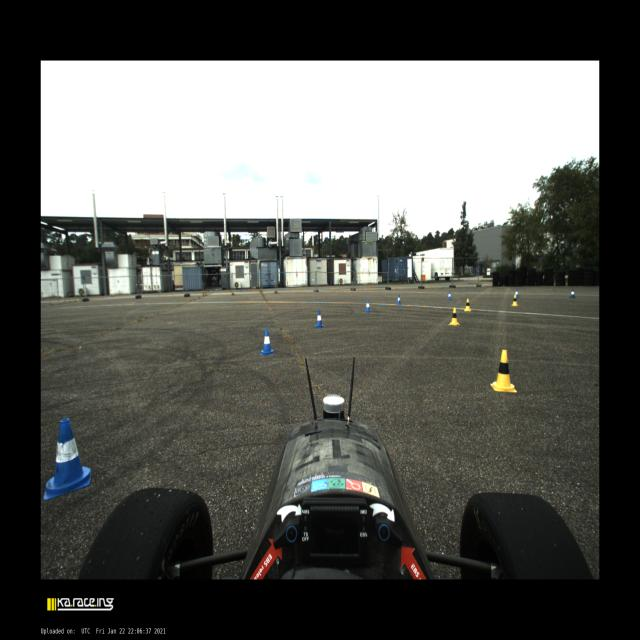blue_cone: (44, 418, 90, 500), (260, 329, 274, 356), (314, 311, 325, 328), (365, 300, 371, 312), (396, 294, 402, 306), (514, 288, 520, 298), (569, 289, 575, 298), (447, 291, 452, 300)
yellow_cone: (490, 350, 517, 392), (449, 308, 460, 325), (464, 298, 471, 311), (512, 295, 518, 306)
